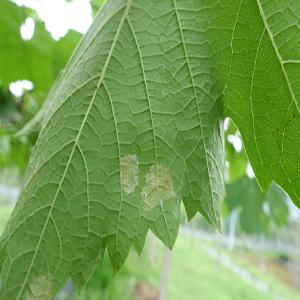Folha: (0, 0, 299, 298)
Fungo: (140, 162, 176, 212), (276, 111, 296, 160), (119, 152, 139, 195), (28, 273, 54, 299), (26, 155, 40, 184), (288, 111, 296, 124), (160, 89, 165, 96), (292, 112, 296, 118), (288, 118, 291, 122), (276, 128, 278, 132)
